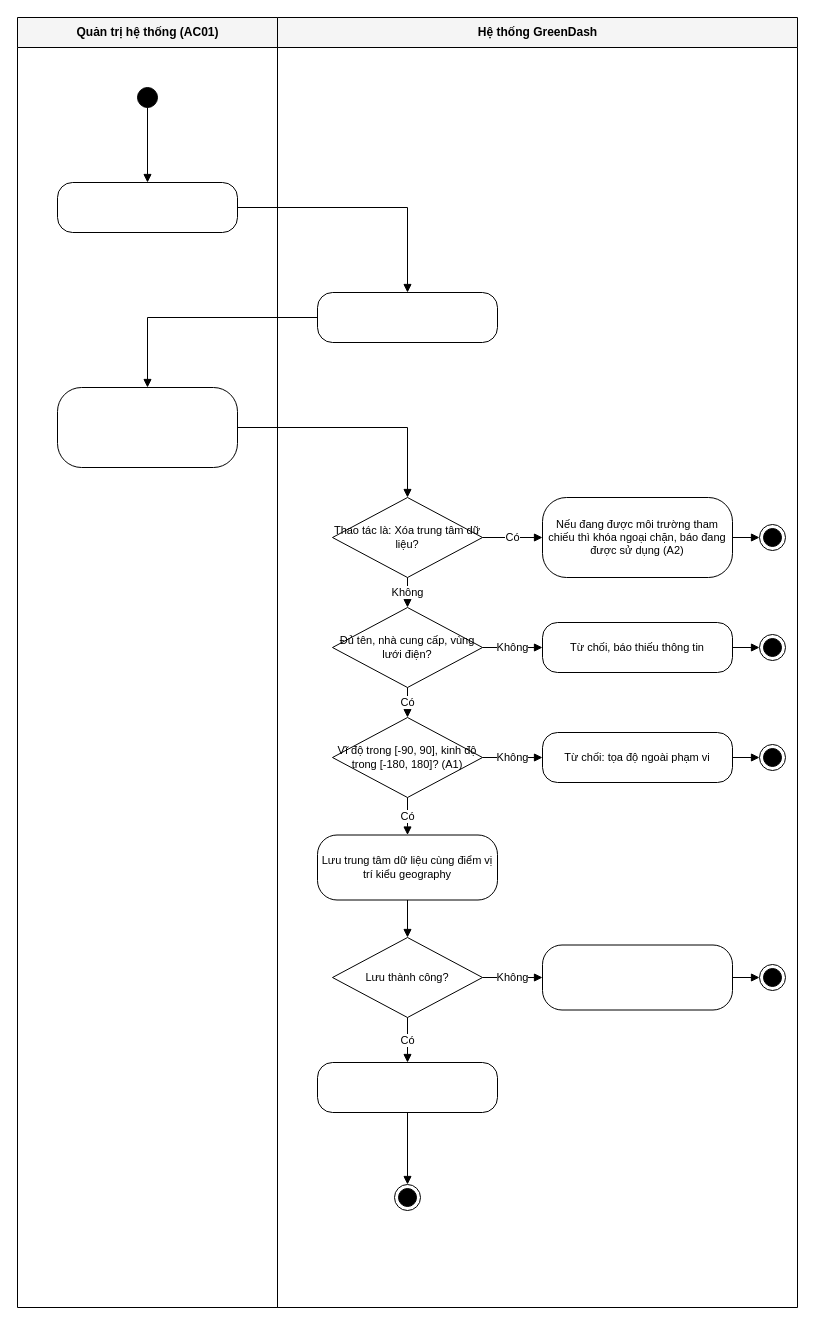
This 815x1325 diagram has some shape labels left out. Here are the shapes that lost their labels. From the top down, the centre of each, then its label:
point (147, 207): Mở màn hình Trung tâm dữ liệu, chọn thao tác
point (407, 317): Hiển thị danh sách và biểu mẫu
point (147, 427): Thêm hoặc Sửa: nhập thông tin, nhấn Lưu; hoặc chọn: Xóa trung tâm dữ liệu
point (637, 977): Rollback, giữ nguyên dữ liệu đã nhập trên biểu mẫu (E1)
point (407, 1087): Thông báo thành công, cập nhật danh sách
